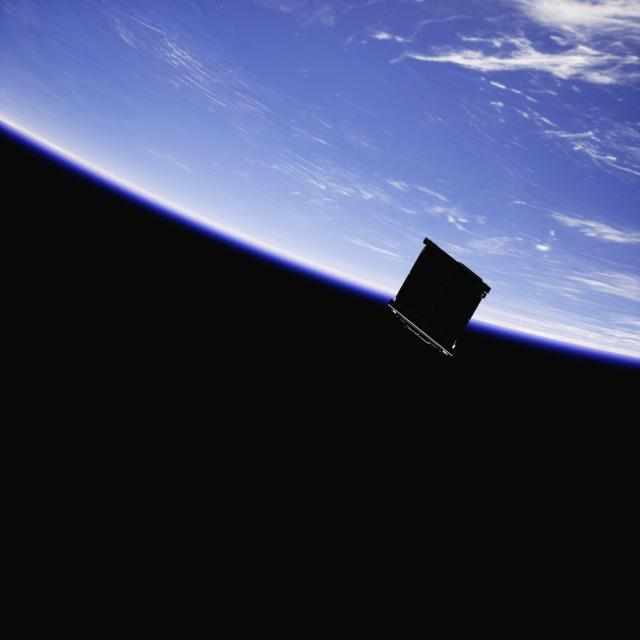medium_debris: (389, 238, 492, 362)
